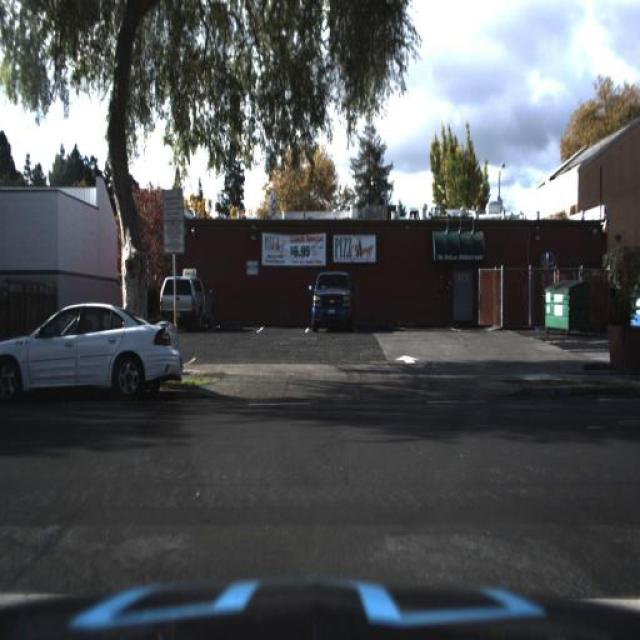car: (0, 300, 186, 410), (302, 263, 361, 331), (156, 274, 206, 324)
